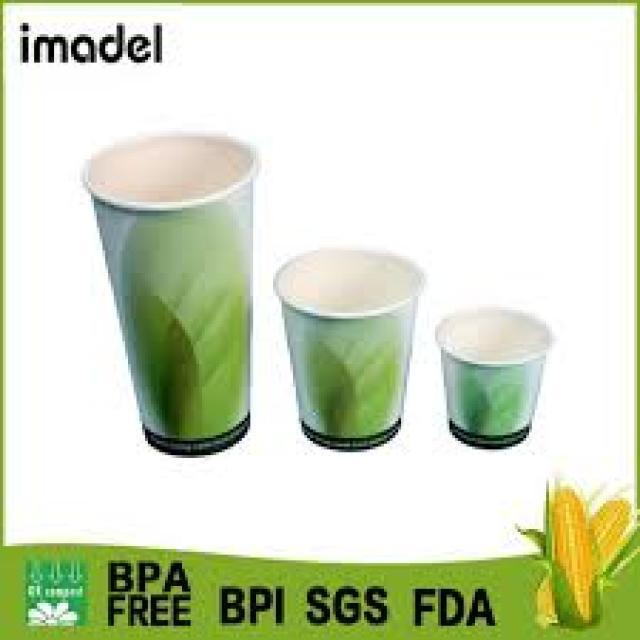cup: (84, 136, 256, 454), (274, 249, 425, 449), (436, 312, 552, 447)
